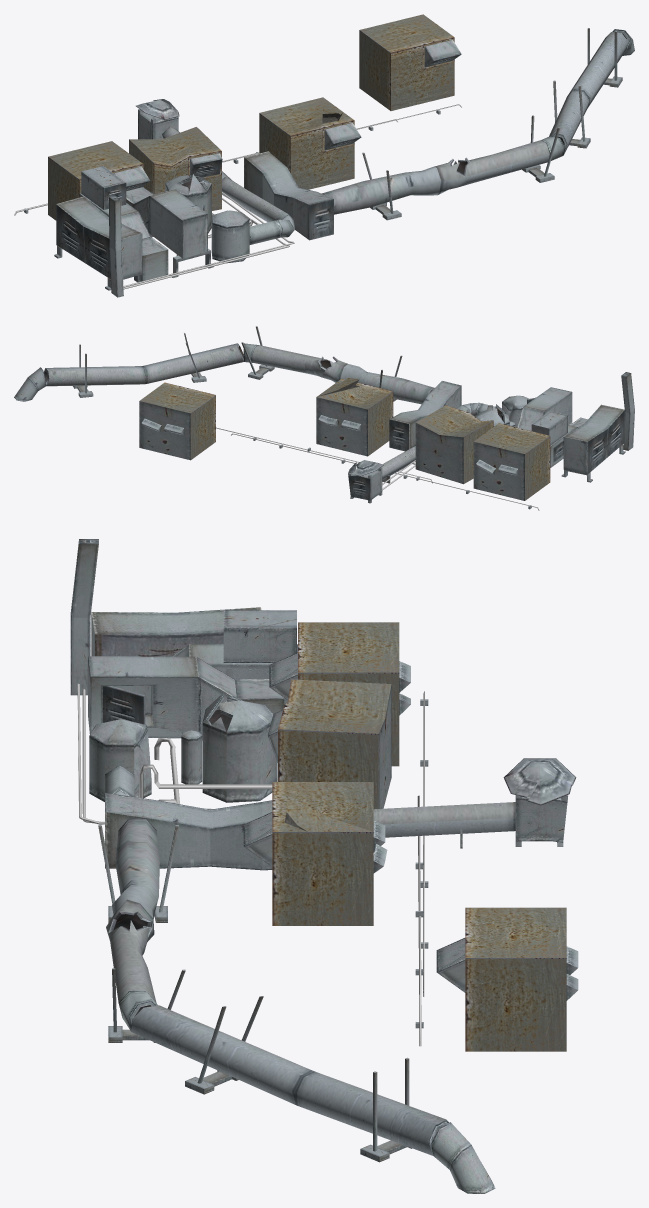
The model's file is air_system_complex.fbx.
The picture shows the model from 3 angles, top to bottom: view 1: azimuth 30°, elevation 25°; view 2: azimuth 150°, elevation 25°; view 3: azimuth 270°, elevation 25°; orthographic projection. The views are drawn at different scales.
Parts seen in each view (by area): view 1: air_system_complex; view 2: air_system_complex; view 3: air_system_complex.
Boxes of the visible parts, <box> form: air_system_complex: <box>14,14,634,297</box>; air_system_complex: <box>14,326,634,510</box>; air_system_complex: <box>70,539,578,1193</box>.
Bounding box in the file's own units: 1972 × 275 × 834.
